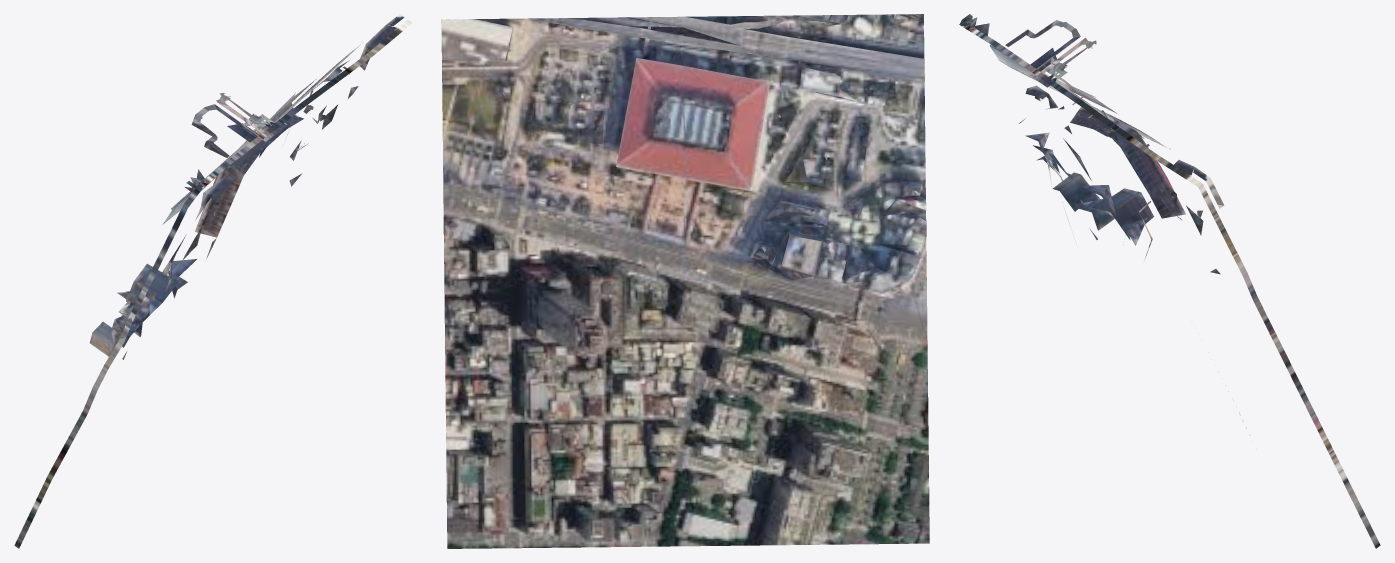
3 views of the same model, side by side, from view 1: azimuth 30°, elevation 25°; view 2: azimuth 150°, elevation 25°; view 3: azimuth 270°, elevation 25° (orthographic). The views are drawn at different scales.
Bounding box in the file's own units: 610 × 588 × 517.
Materials: 1 (1 with a texture image).
